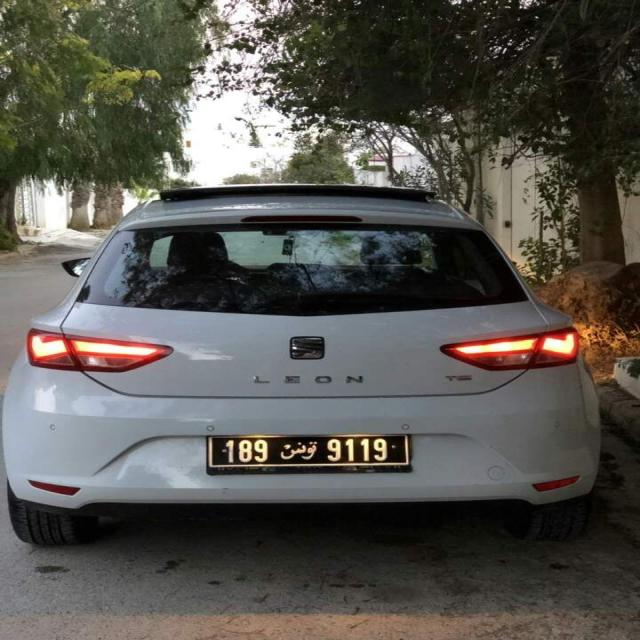LP: (205, 432, 412, 467)
